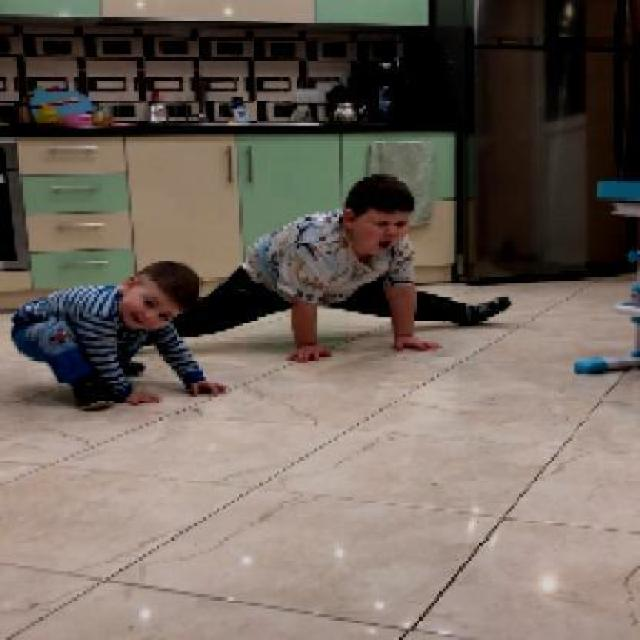child: (174, 173, 512, 370), (8, 260, 232, 409)
